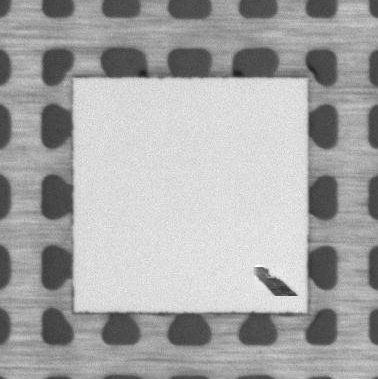DIE_INK: (252, 265, 297, 297)
